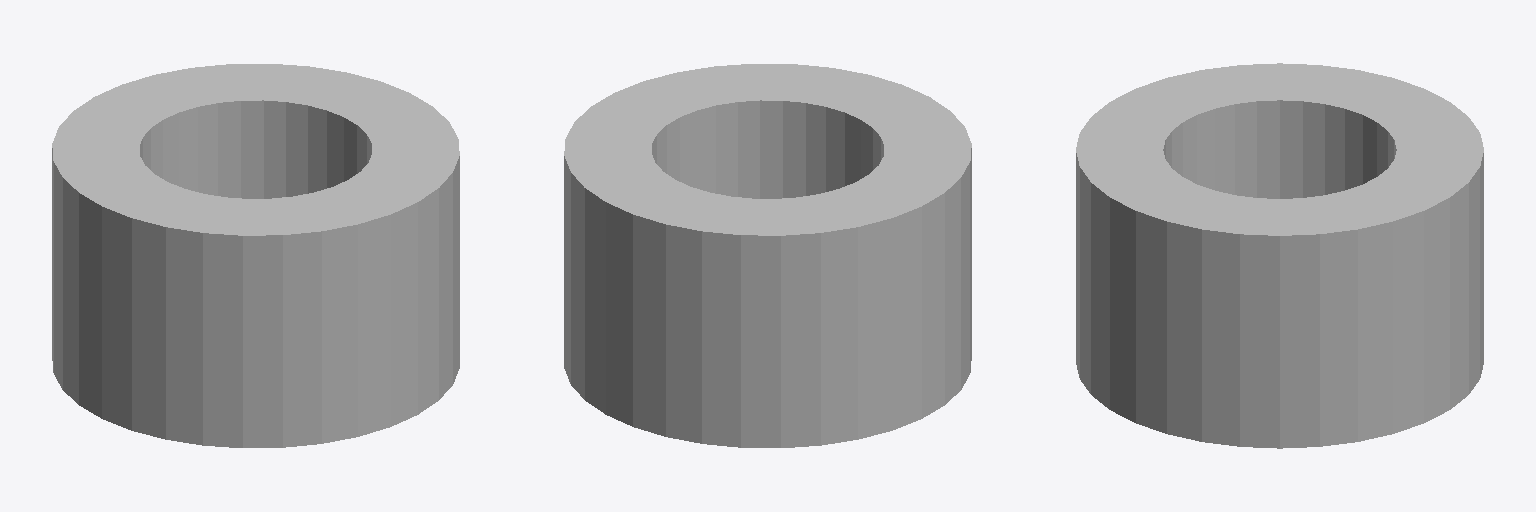
Rendered from holeObstacle.obj.
3 renders of one model, left to right at view 1: azimuth 30°, elevation 25°; view 2: azimuth 150°, elevation 25°; view 3: azimuth 270°, elevation 25°, orthographic.
Visible parts, largest first — view 1: Cylinder; view 2: Cylinder; view 3: Cylinder.
Boxes of the visible parts, x1,y1,x2,y2 form: Cylinder: [52, 64, 459, 447]; Cylinder: [564, 64, 971, 447]; Cylinder: [1076, 63, 1483, 448].
Size of the model in its own units: 7 by 4.02 by 7.